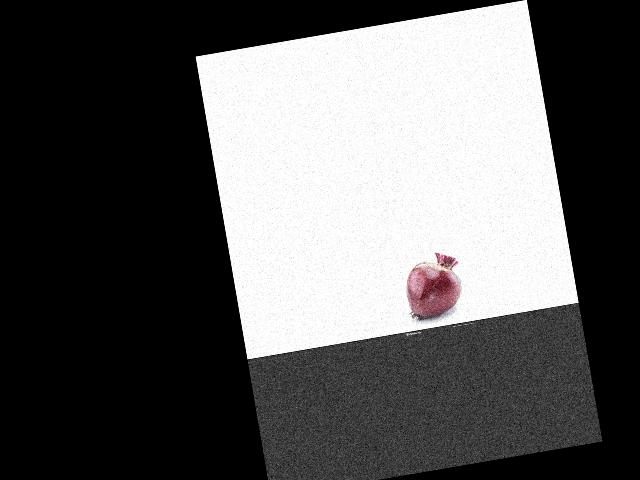beet: (401, 249, 466, 320)
